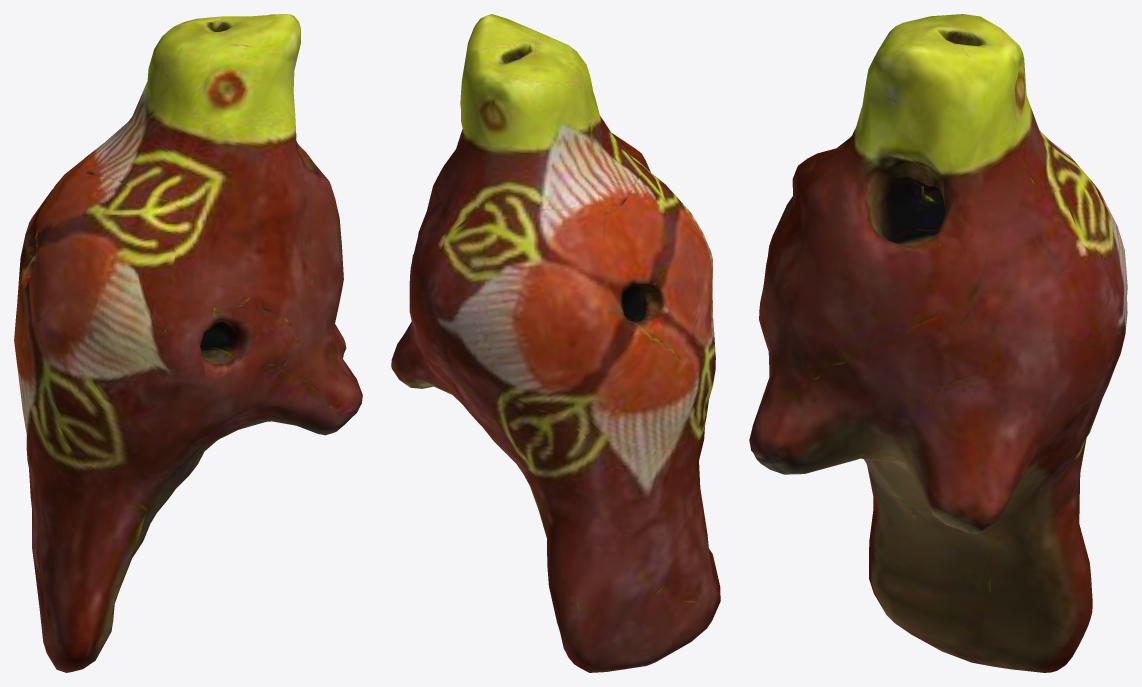
Rendered from hall.glb.
3 views of the same model, side by side, from view 1: azimuth 30°, elevation 25°; view 2: azimuth 150°, elevation 25°; view 3: azimuth 270°, elevation 25° (orthographic). The views are drawn at different scales.
Size of the model in its own units: 0.4772 by 0.9028 by 0.4274.
1 material, 1 textured.
